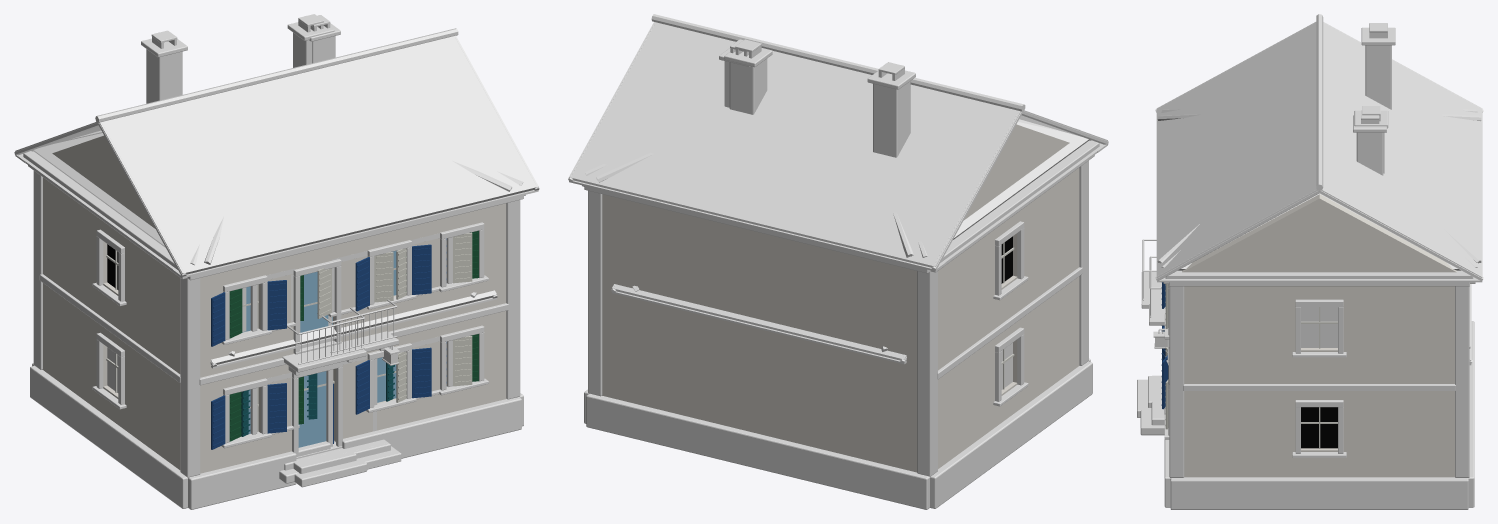
File: casas-C64naVxC.glb
3 views of the same model, side by side, from view 1: azimuth 30°, elevation 25°; view 2: azimuth 150°, elevation 25°; view 3: azimuth 270°, elevation 25° (orthographic). The views are drawn at different scales.
Visible parts, largest first — view 1: casa_e, casa_c, casa_a, casa_f; view 2: casa_e, casa_c, casa_f, casa_a; view 3: casa_e, casa_a, casa_c, casa_f.
Part boxes in pixels (x1=…): casa_e: x1=14, y1=28, x2=539, y2=509; casa_c: x1=42, y1=14, x2=511, y2=469; casa_a: x1=31, y1=15, x2=523, y2=455; casa_f: x1=210, y1=290, x2=497, y2=458; casa_e: x1=568, y1=14, x2=1108, y2=509; casa_c: x1=596, y1=39, x2=1079, y2=257; casa_f: x1=611, y1=284, x2=906, y2=364; casa_a: x1=585, y1=39, x2=1091, y2=257; casa_e: x1=1137, y1=14, x2=1483, y2=509; casa_a: x1=1145, y1=109, x2=1477, y2=435; casa_c: x1=1140, y1=106, x2=1481, y2=435; casa_f: x1=1149, y1=284, x2=1472, y2=435.
Size of what is drawn, in the model's own units: 10.94 by 10.88 by 9.41.
